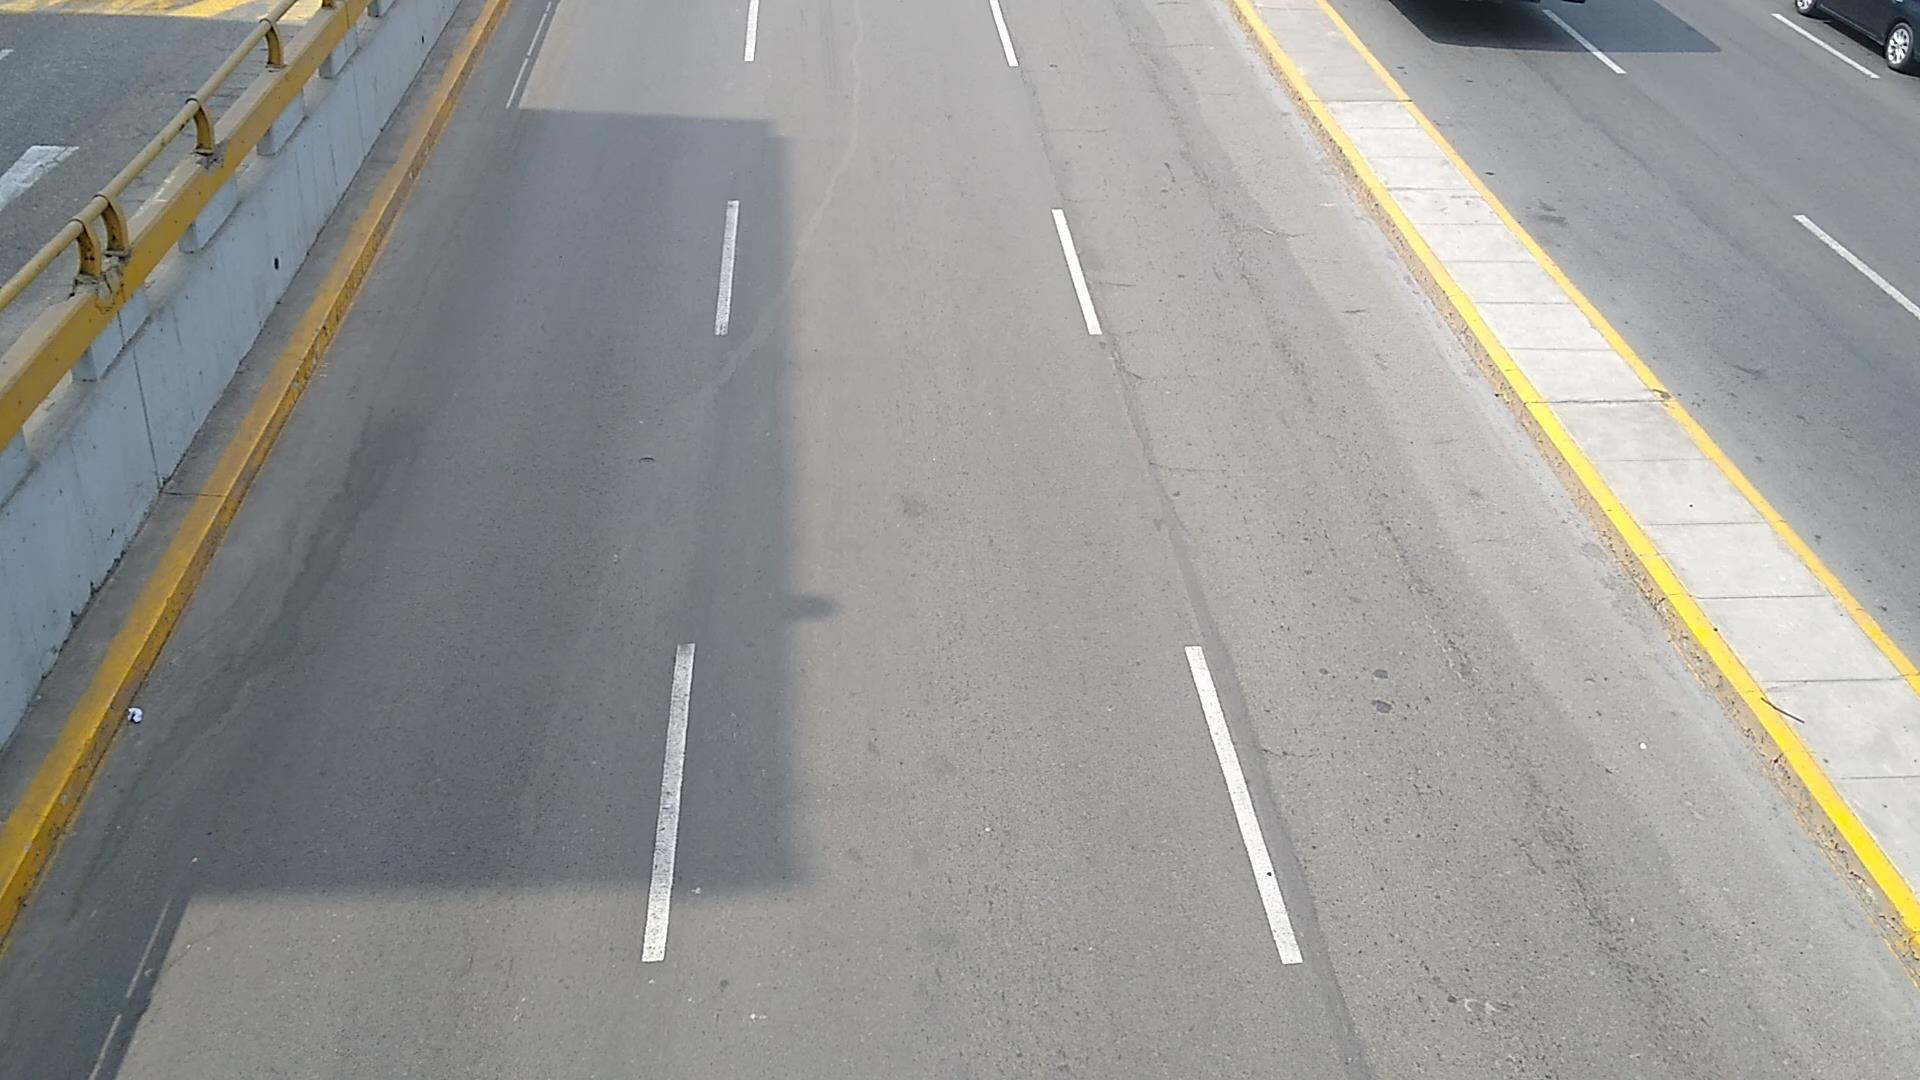car: (1796, 0, 1920, 73)
